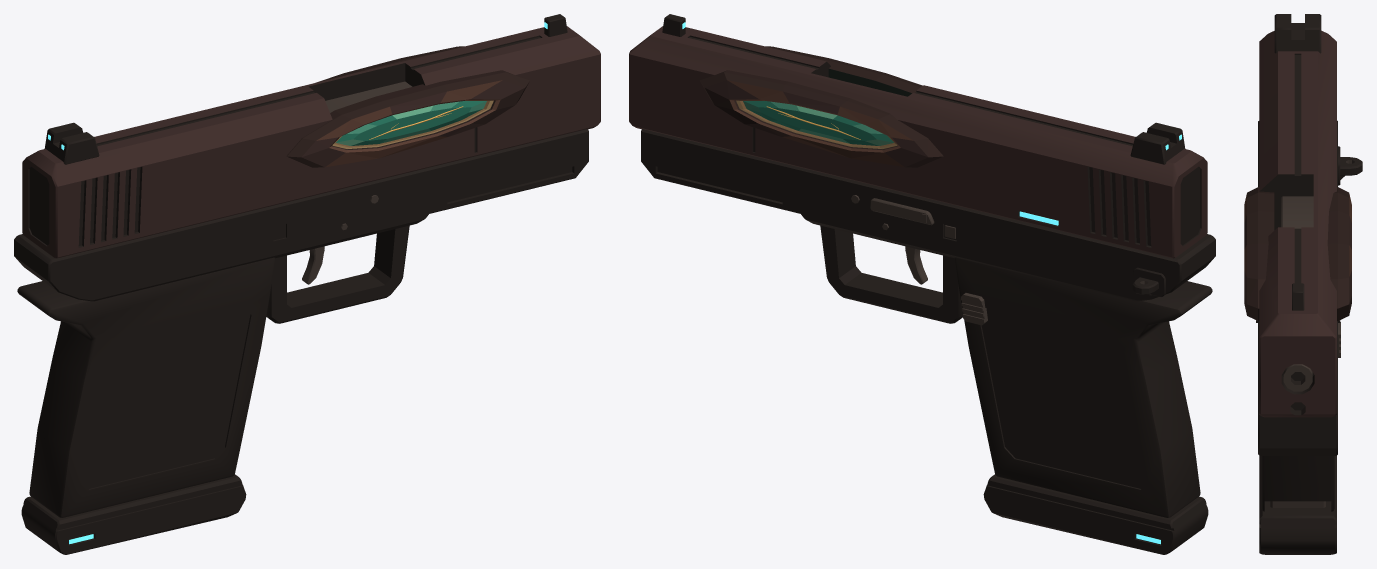
File: Classic_Rootglass_v01.fbx
3 renders of one model, left to right at view 1: azimuth 30°, elevation 25°; view 2: azimuth 150°, elevation 25°; view 3: azimuth 270°, elevation 25°, orthographic. The views are drawn at different scales.
Parts seen in each view (by area): view 1: Classic_Slide, Classic_Grip, Classic_Frame, Rootglass_Right_CarvedShell, Classic_Magazine, Rootglass_Right_FacetedMineral, Classic_Barrel; view 2: Classic_Slide, Classic_Grip, Classic_Frame, Classic_Magazine, Rootglass_Left_CarvedShell, Rootglass_Left_FacetedMineral, Rootglass_Right_CarvedShell, Classic_SlideCatch, Classic_CharmLoop; view 3: Classic_Slide, Classic_Magazine, Classic_Frame, Classic_Grip, Rootglass_Right_CarvedShell, Rootglass_Left_CarvedShell, Classic_Barrel, Classic_CharmLoop.
Part boxes in pixels (x1,y1,x2,y2): Classic_Slide: [22, 14, 600, 258]; Classic_Grip: [17, 257, 274, 517]; Classic_Frame: [14, 129, 588, 323]; Rootglass_Right_CarvedShell: [286, 70, 529, 167]; Classic_Magazine: [21, 474, 246, 554]; Rootglass_Right_FacetedMineral: [336, 101, 486, 145]; Classic_Barrel: [325, 81, 412, 112]; Classic_Slide: [629, 14, 1207, 258]; Classic_Grip: [955, 257, 1212, 517]; Classic_Frame: [641, 129, 1215, 323]; Classic_Magazine: [983, 474, 1208, 554]; Rootglass_Left_CarvedShell: [700, 70, 943, 167]; Rootglass_Left_FacetedMineral: [743, 101, 893, 145]; Rootglass_Right_CarvedShell: [765, 46, 922, 96]; Classic_SlideCatch: [870, 198, 934, 225]; Classic_CharmLoop: [1132, 267, 1165, 296]; Classic_Slide: [1259, 14, 1336, 417]; Classic_Magazine: [1259, 456, 1336, 554]; Classic_Frame: [1258, 120, 1337, 455]; Classic_Grip: [1261, 456, 1334, 511]; Rootglass_Right_CarvedShell: [1244, 187, 1274, 321]; Rootglass_Left_CarvedShell: [1327, 187, 1351, 321]; Classic_Barrel: [1281, 196, 1313, 391]; Classic_CharmLoop: [1338, 146, 1362, 185].
Size of the model in its own units: 128 by 90.58 by 21.33.
